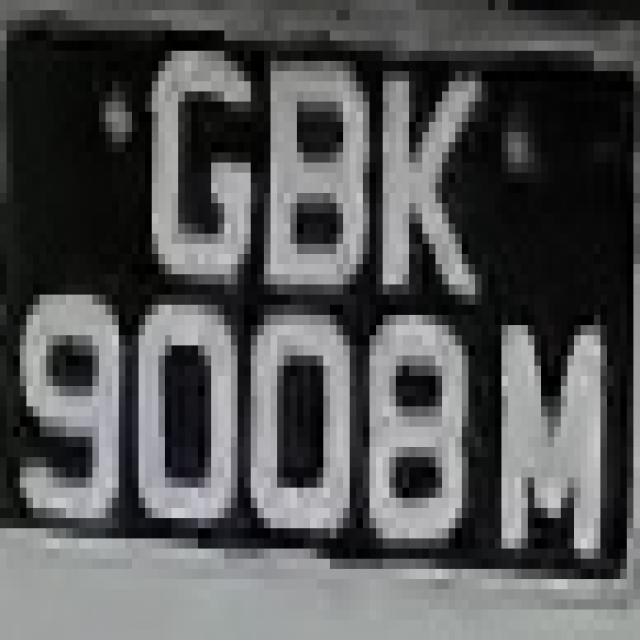0: (112, 264, 251, 549), (237, 305, 363, 579)
8: (363, 264, 488, 549)
9: (20, 244, 119, 559)
B: (257, 51, 376, 335)
G: (145, 51, 271, 305)
K: (356, 10, 488, 305)
M: (495, 284, 620, 590)
